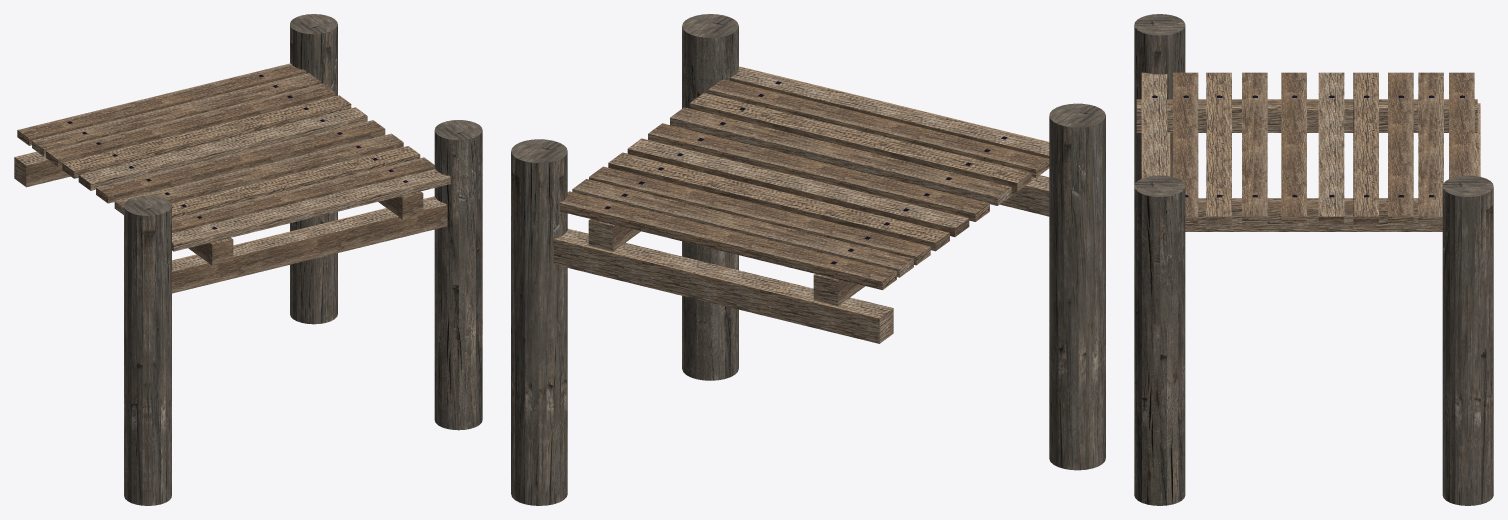
The model's file is Plataforma madera 4to C.fbx.
3 views of the same model, side by side, from view 1: azimuth 30°, elevation 25°; view 2: azimuth 150°, elevation 25°; view 3: azimuth 270°, elevation 25° (orthographic). The views are drawn at different scales.
Parts seen in each view (by area): view 1: Piso Madera 4x4, Soporte, Poste.001, Viga; view 2: Piso Madera 4x4, Soporte, Poste.001, Viga; view 3: Piso Madera 4x4, Soporte, Poste.001, Viga.
Part boxes in pixels (x1=…): Piso Madera 4x4: x1=17, y1=63, x2=450, y2=265; Soporte: x1=124, y1=120, x2=482, y2=505; Poste.001: x1=290, y1=14, x2=337, y2=324; Viga: x1=14, y1=151, x2=70, y2=187; Piso Madera 4x4: x1=559, y1=66, x2=1049, y2=305; Soporte: x1=682, y1=14, x2=1105, y2=470; Poste.001: x1=511, y1=139, x2=567, y2=505; Viga: x1=553, y1=228, x2=893, y2=343; Piso Madera 4x4: x1=1136, y1=72, x2=1477, y2=231; Soporte: x1=1134, y1=14, x2=1185, y2=505; Poste.001: x1=1442, y1=175, x2=1493, y2=505; Viga: x1=1474, y1=103, x2=1480, y2=176.
Bounding box in the file's own units: 508 × 400 × 422.
3 materials, 2 textured.
